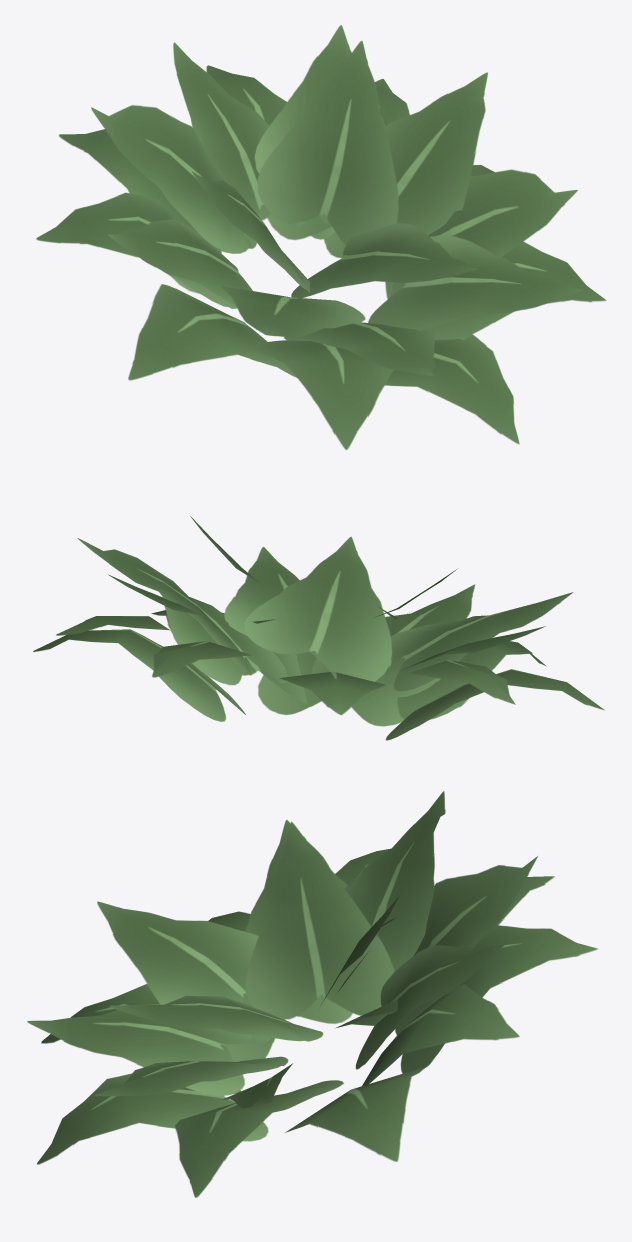
File: plant.glb
The picture shows the model from 3 angles, top to bottom: view 1: azimuth 30°, elevation 25°; view 2: azimuth 150°, elevation 25°; view 3: azimuth 270°, elevation 25°; orthographic projection. The views are drawn at different scales.
Parts seen in each view (by area): view 1: Plant_1; view 2: Plant_1; view 3: Plant_1.
Part boxes in pixels (box(x1,y1,x2,y2)): Plant_1: box(36, 25, 606, 450); Plant_1: box(33, 516, 604, 740); Plant_1: box(27, 791, 597, 1197).
Size of the model in its own units: 6.21 by 3.43 by 6.
1 material, 1 textured.
